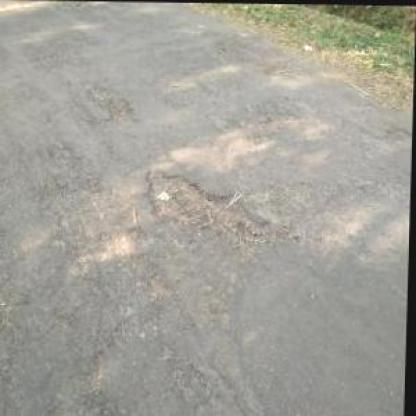pothole: (144, 165, 282, 243), (90, 86, 139, 122)
